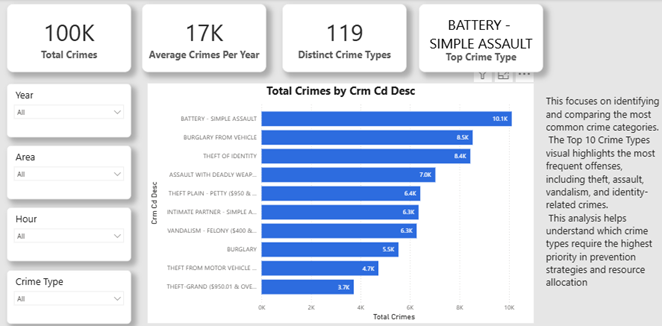

This screenshot's page, from the dashboard's own definition file:
{"tool":"powerbi","page":{"name":"Crime Types Analysis","canvas":[1280,720],"ordinal":1},"visuals":[{"type":"clusteredBarChart","fields":{"Category":["cleaned_crime_data.Crm Cd Desc"],"Y":["cleaned_crime_data.Total Crimes"]},"box":[285.1,161.3,747.4,465.1],"z":0},{"type":"card","fields":{"Values":["cleaned_crime_data.Total Crimes"]},"box":[14.4,8.6,240.5,132.5],"z":1000},{"type":"card","fields":{"Values":["cleaned_crime_data.Average Crimes Per Year"]},"box":[275,8.6,240.5,132.5],"z":2000},{"type":"card","fields":{"Values":["cleaned_crime_data.Top Crime Type"]},"box":[809.3,8.6,240.5,132.5],"z":3000},{"type":"card","fields":{"Values":["cleaned_crime_data.Distinct Crime Types"]},"box":[545.8,8.6,240.5,132.5],"z":4000},{"type":"slicer","fields":{"Values":["cleaned_crime_data.Occ_Year"]},"box":[13.8,162.6,240.4,103.8],"z":5000},{"type":"slicer","fields":{"Values":["cleaned_crime_data.AREA NAME"]},"box":[13.8,282.5,240.4,103.8],"z":6000},{"type":"slicer","fields":{"Values":["cleaned_crime_data.Crm Cd Desc"]},"box":[13.8,522.4,240.4,103.8],"z":7000},{"type":"slicer","fields":{"Values":["cleaned_crime_data.Hour"]},"box":[13.8,402.5,240.4,103.8],"z":8000},{"type":"textbox","box":[1049.6,178.6,230.4,445],"z":9000}]}

Visuals, with their boxes on the page's 1280x720 design canvas (x1, y1, x2, y2). These are canvas units, not pixel positions in the 662x326 screenshot, which may show the page scaled, cropped or inside an application window:
clusteredBarChart - cleaned_crime_data.Crm Cd Desc x cleaned_crime_data.Total Crimes: bbox=[285, 161, 1032, 626]
card - cleaned_crime_data.Total Crimes: bbox=[14, 9, 255, 141]
card - cleaned_crime_data.Average Crimes Per Year: bbox=[275, 9, 516, 141]
card - cleaned_crime_data.Top Crime Type: bbox=[809, 9, 1050, 141]
card - cleaned_crime_data.Distinct Crime Types: bbox=[546, 9, 786, 141]
slicer - cleaned_crime_data.Occ_Year: bbox=[14, 163, 254, 266]
slicer - cleaned_crime_data.AREA NAME: bbox=[14, 282, 254, 386]
slicer - cleaned_crime_data.Crm Cd Desc: bbox=[14, 522, 254, 626]
slicer - cleaned_crime_data.Hour: bbox=[14, 402, 254, 506]
textbox: bbox=[1050, 179, 1280, 624]
